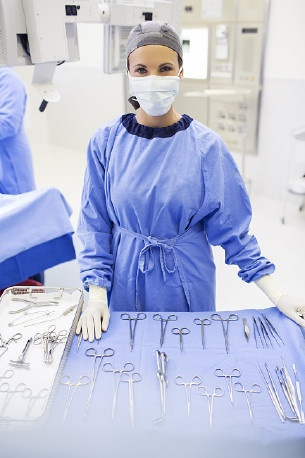Mask: (127, 59, 182, 114)
